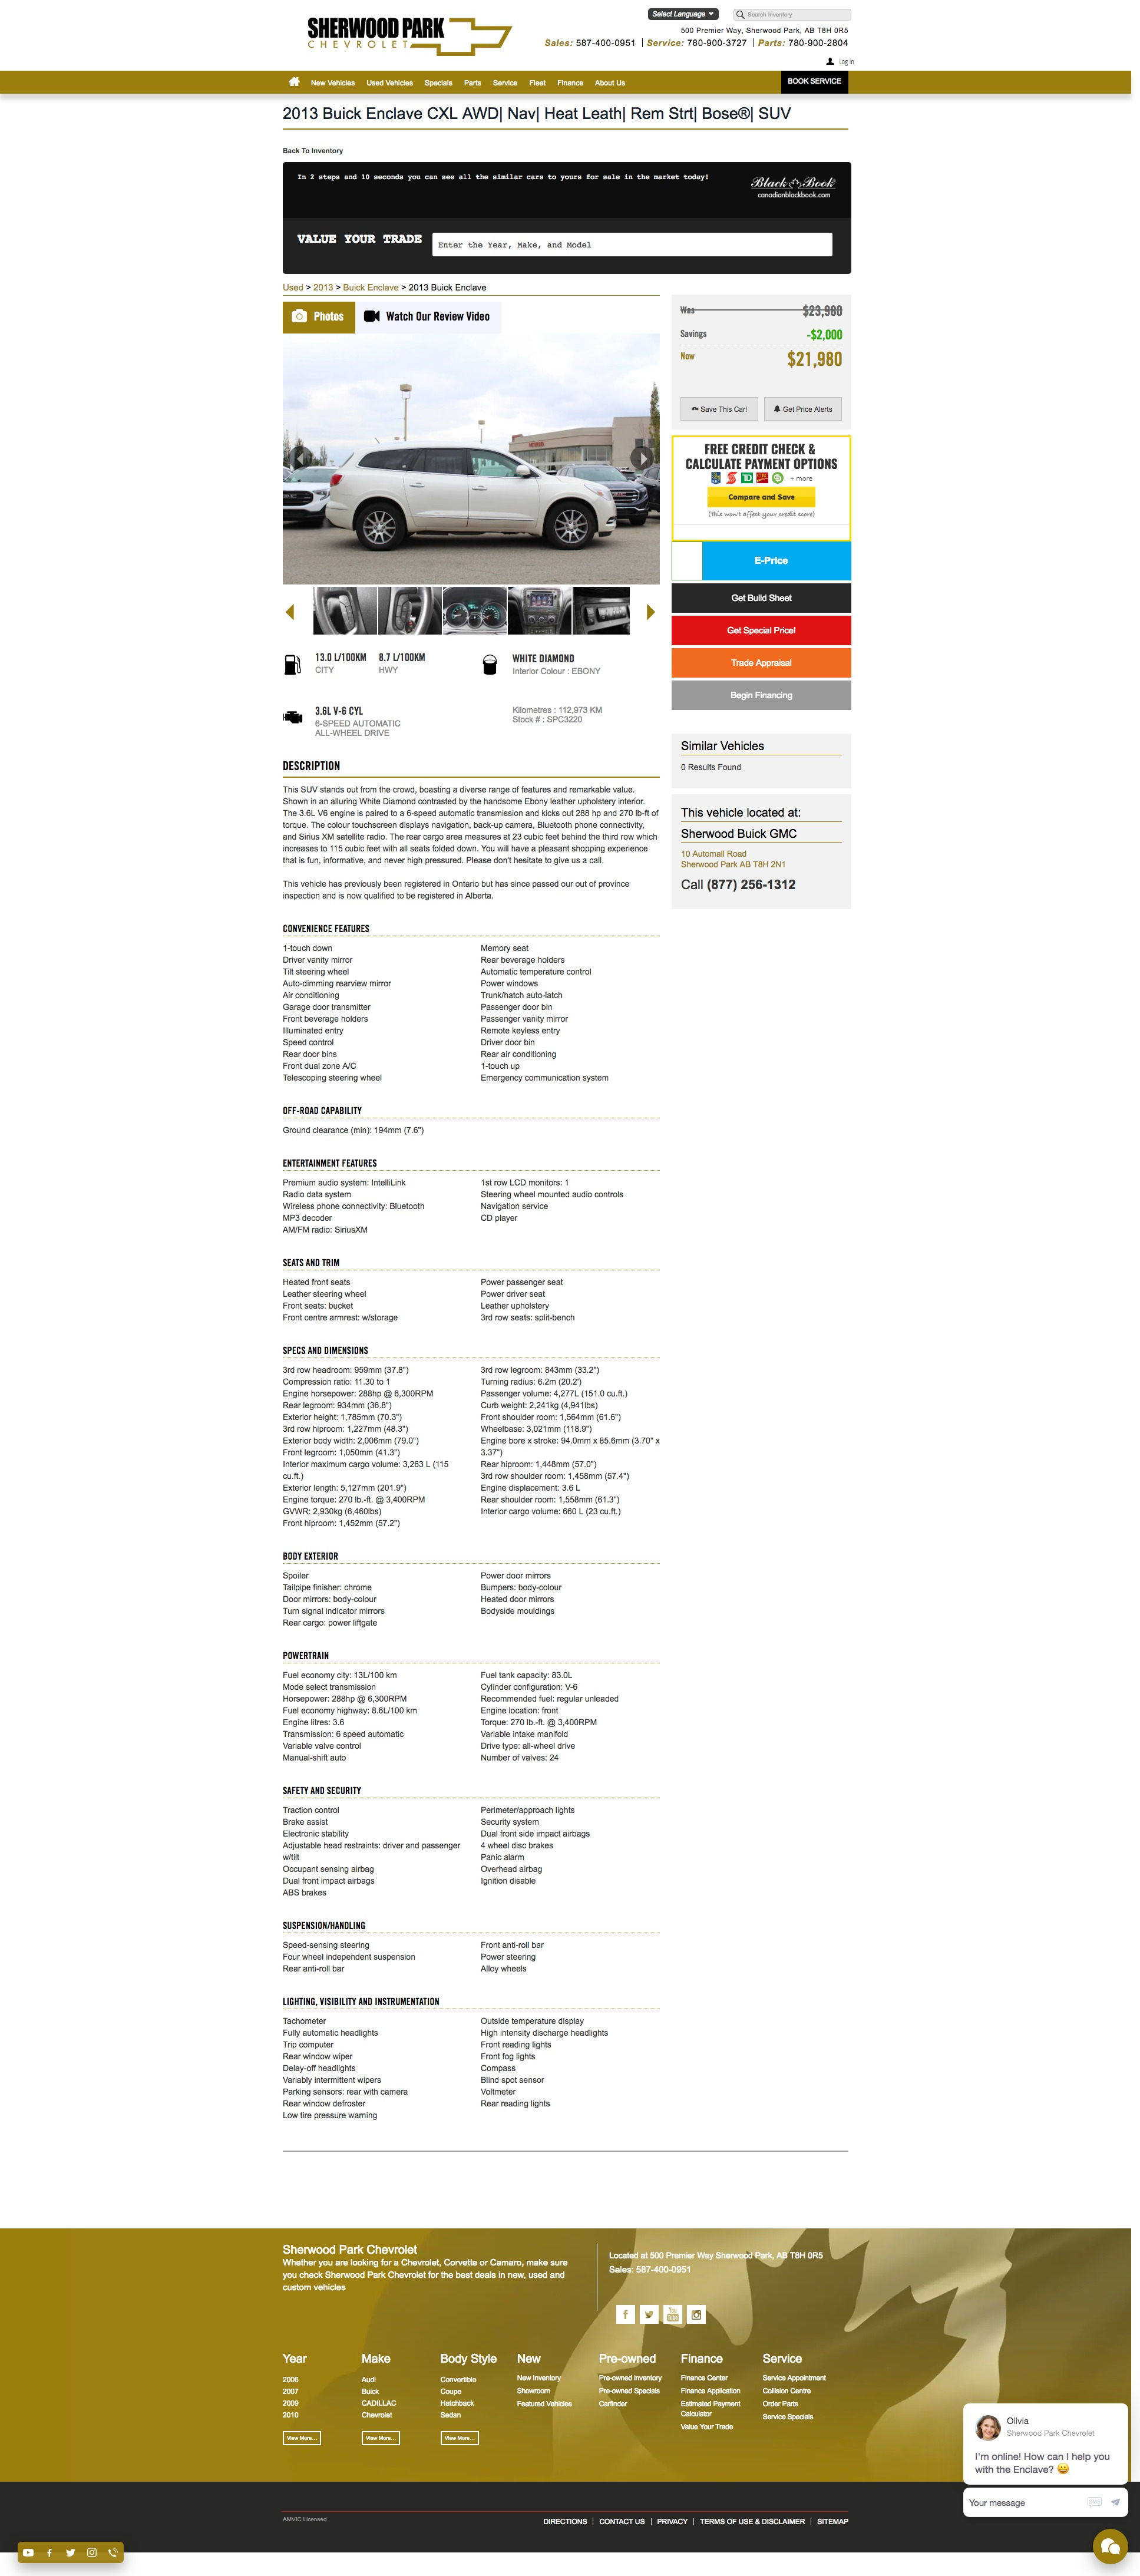car: (647, 605, 655, 621)
